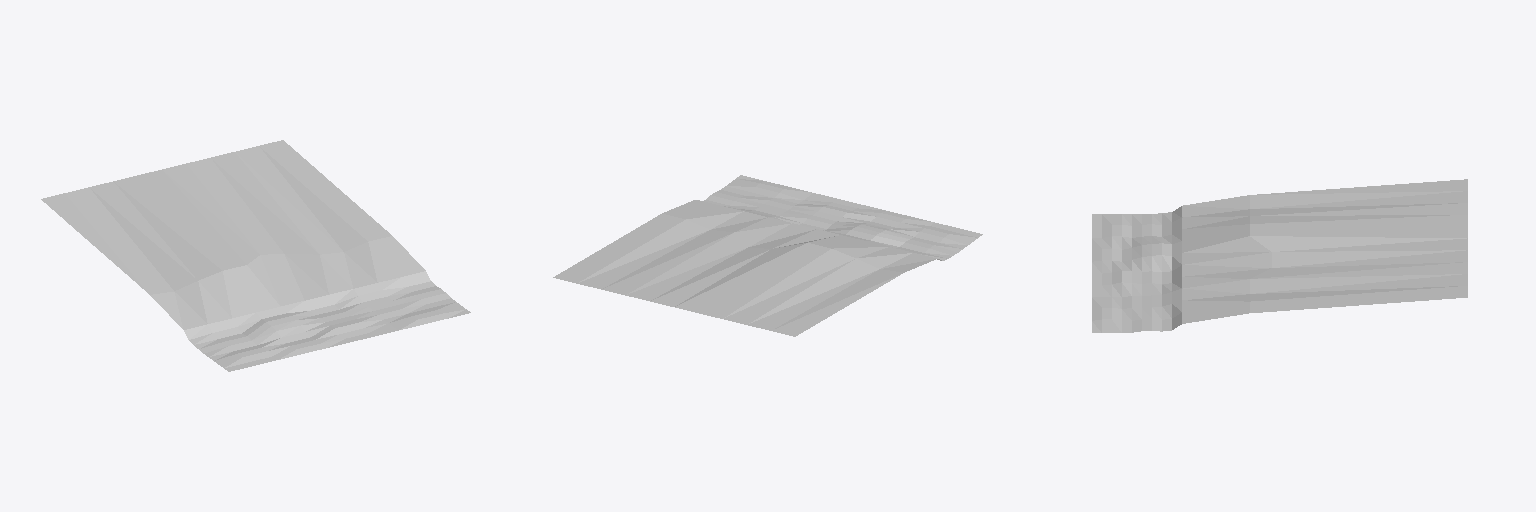
The model's file is Seafloor.obj.
3 views of the same model, side by side, from view 1: azimuth 30°, elevation 25°; view 2: azimuth 150°, elevation 25°; view 3: azimuth 270°, elevation 25° (orthographic).
Visible parts, largest first — view 1: pPlane1; view 2: pPlane1; view 3: pPlane1.
Boxes of the visible parts, box(x1,y1,x2,y2) form: pPlane1: box(41, 140, 470, 371); pPlane1: box(553, 175, 982, 336); pPlane1: box(1092, 179, 1467, 332).
Bounding box in the file's own units: 2221 × 308 × 2985.